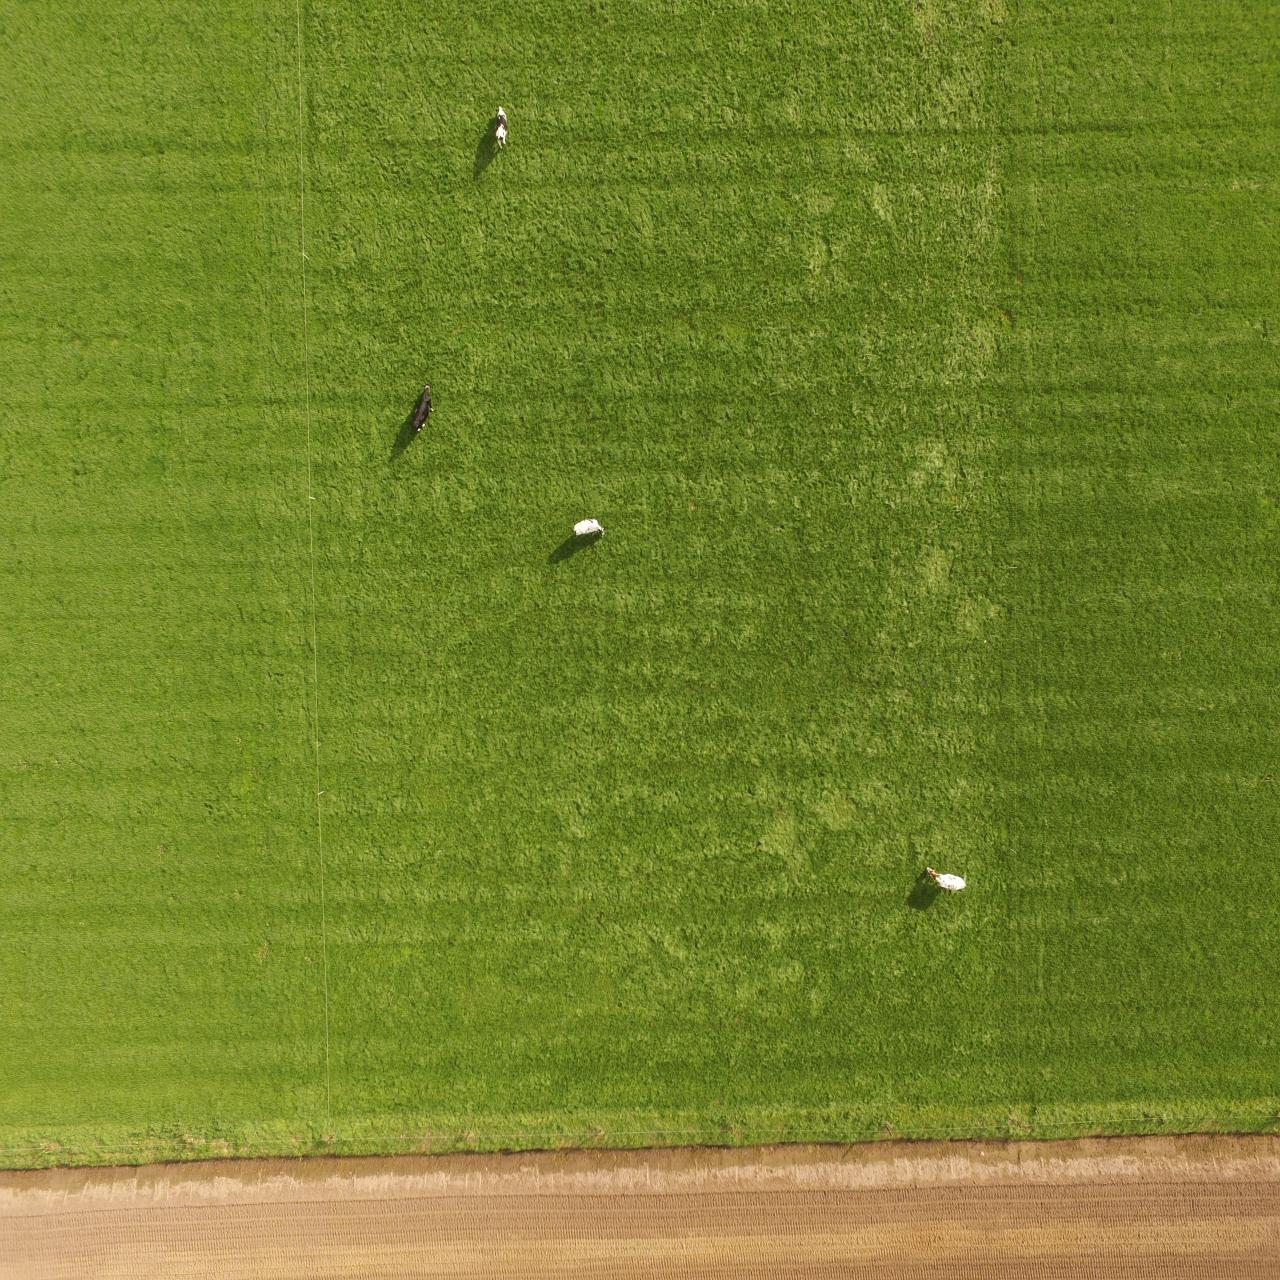cow: (407, 375, 435, 441), (921, 862, 974, 892), (492, 104, 512, 155), (572, 512, 606, 540)
